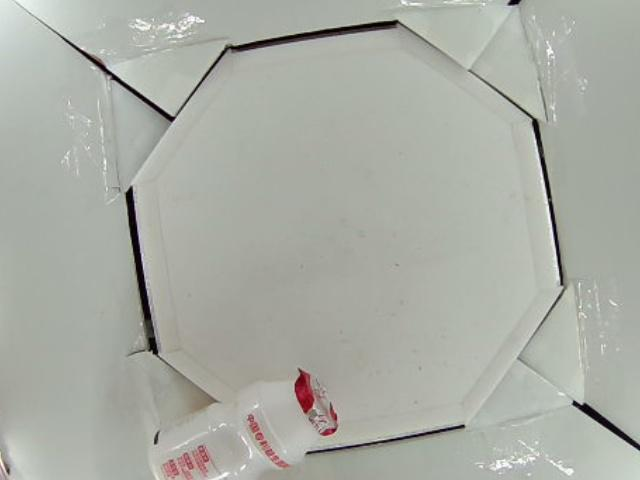Bottle: (147, 368, 338, 480)
